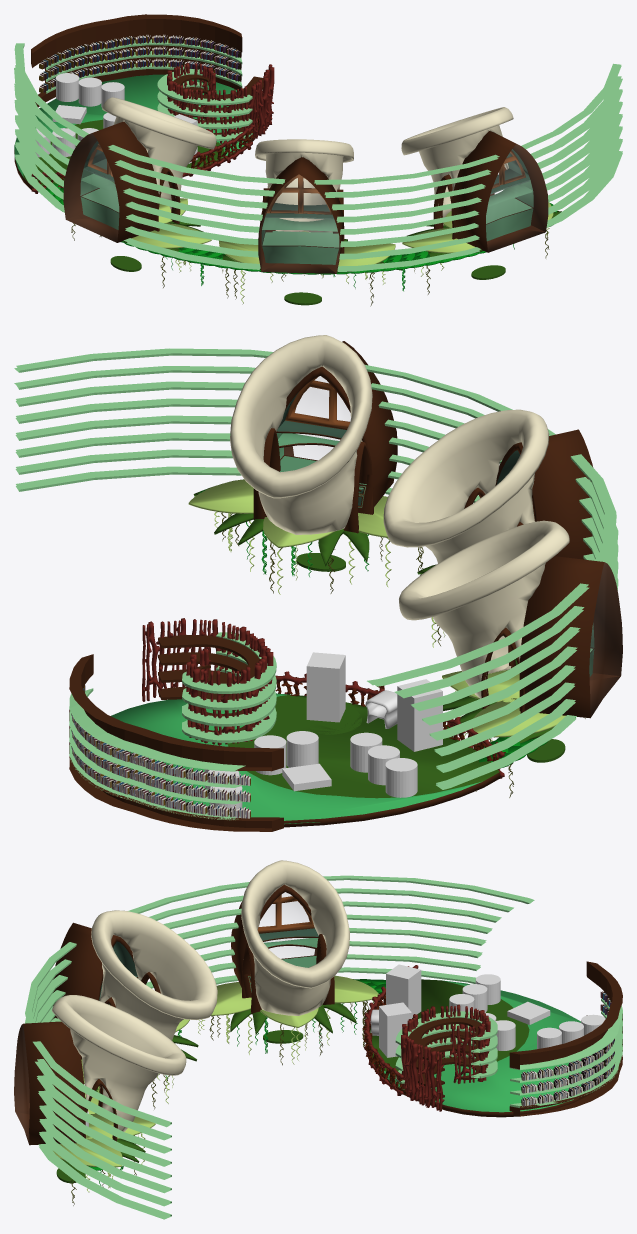
The model's file is Level2.fbx.
The picture shows the model from 3 angles, top to bottom: view 1: azimuth 30°, elevation 25°; view 2: azimuth 150°, elevation 25°; view 3: azimuth 270°, elevation 25°; orthographic projection. The views are drawn at different scales.
Parts seen in each view (by area): view 1: BigShelvs.Lvl2, Desk.WorkStation.Lvl2, LillyCup.Lvl2, Shelves.Lvl2, BookStack.Lvl2, Leafs.Lvl2, Stick.Lvl2, Floor.Platform.Lvl2, SpiralyShelf.Lvl2, Cylinder.010, Shelves.Lvl2.002, WalkingPath.Lvl2 (+6 smaller); view 2: LillyCup.Lvl2, BigShelvs.Lvl2, Desk.WorkStation.Lvl2, Floor.Platform.Lvl2, Leafs.Lvl2, Shelves.Lvl2, Stick.Lvl2, BookStack.Lvl2, Shelves.Lvl2.002, Cube.004, SpiralyShelf.Lvl2, Cylinder.010 (+7 smaller); view 3: LillyCup.Lvl2, BigShelvs.Lvl2, Desk.WorkStation.Lvl2, Floor.Platform.Lvl2, Leafs.Lvl2, Stick.Lvl2, Shelves.Lvl2, Cube.004, Shelves.Lvl2.002, BookStack.Lvl2, Cylinder.010, SpiralyShelf.Lvl2 (+6 smaller).
Boxes of the visible parts, x1=… form: BigShelvs.Lvl2: x1=14, y1=43, x2=622, y2=271; Desk.WorkStation.Lvl2: x1=63, y1=121, x2=548, y2=273; LillyCup.Lvl2: x1=102, y1=97, x2=513, y2=253; Shelves.Lvl2: x1=31, y1=14, x2=242, y2=107; BookStack.Lvl2: x1=39, y1=34, x2=241, y2=93; Leafs.Lvl2: x1=110, y1=198, x2=561, y2=305; Stick.Lvl2: x1=167, y1=62, x2=274, y2=143; Floor.Platform.Lvl2: x1=14, y1=74, x2=253, y2=189; SpiralyShelf.Lvl2: x1=157, y1=69, x2=252, y2=140; Cylinder.010: x1=35, y1=73, x2=124, y2=157; Shelves.Lvl2.002: x1=46, y1=39, x2=242, y2=93; WalkingPath.Lvl2: x1=45, y1=183, x2=552, y2=274; LillyCup.Lvl2: x1=230, y1=335, x2=569, y2=713; BigShelvs.Lvl2: x1=14, y1=348, x2=618, y2=789; Desk.WorkStation.Lvl2: x1=276, y1=341, x2=622, y2=718; Floor.Platform.Lvl2: x1=111, y1=693, x2=499, y2=827; Leafs.Lvl2: x1=188, y1=479, x2=565, y2=762; Shelves.Lvl2: x1=69, y1=654, x2=283, y2=831; Stick.Lvl2: x1=142, y1=618, x2=273, y2=745; BookStack.Lvl2: x1=71, y1=685, x2=250, y2=818; Shelves.Lvl2.002: x1=69, y1=688, x2=245, y2=820; Cube.004: x1=306, y1=652, x2=442, y2=751; SpiralyShelf.Lvl2: x1=182, y1=632, x2=276, y2=742; Cylinder.010: x1=204, y1=732, x2=417, y2=813; LillyCup.Lvl2: x1=52, y1=860, x2=349, y2=1141; BigShelvs.Lvl2: x1=25, y1=875, x2=534, y2=1219; Desk.WorkStation.Lvl2: x1=14, y1=884, x2=318, y2=1145; Floor.Platform.Lvl2: x1=369, y1=979, x2=592, y2=1117; Leafs.Lvl2: x1=53, y1=975, x2=385, y2=1183; Stick.Lvl2: x1=401, y1=1004, x2=490, y2=1111; Shelves.Lvl2: x1=509, y1=961, x2=622, y2=1116; Cube.004: x1=379, y1=964, x2=421, y2=1057; Shelves.Lvl2.002: x1=510, y1=998, x2=622, y2=1107; BookStack.Lvl2: x1=521, y1=991, x2=614, y2=1106; Cylinder.010: x1=449, y1=974, x2=605, y2=1048; SpiralyShelf.Lvl2: x1=395, y1=1011, x2=497, y2=1083.
Bounding box in the file's own units: 2864 × 932 × 2897.
